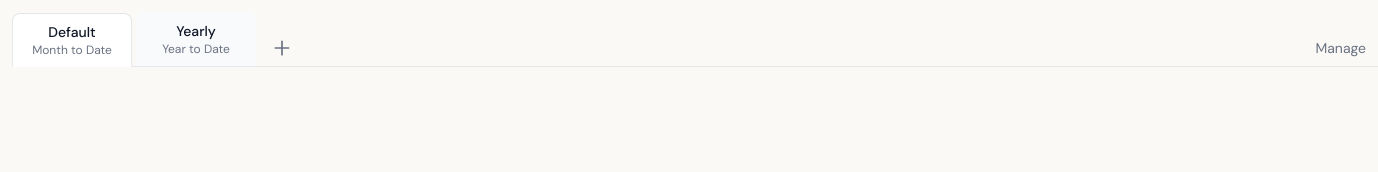
Test: DashboardTabs › shows input field when create button is clicked
Click the button named "create new dashboard".
click(282, 48)  # box [260,30,304,66]
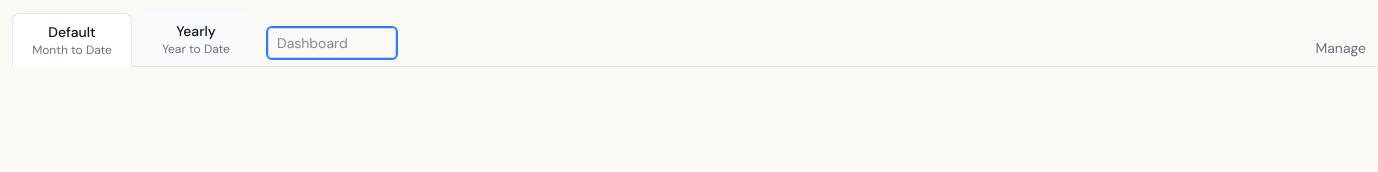
Expected: the field with placeholder "Dashboard" is shown, [268,28,396,58]
